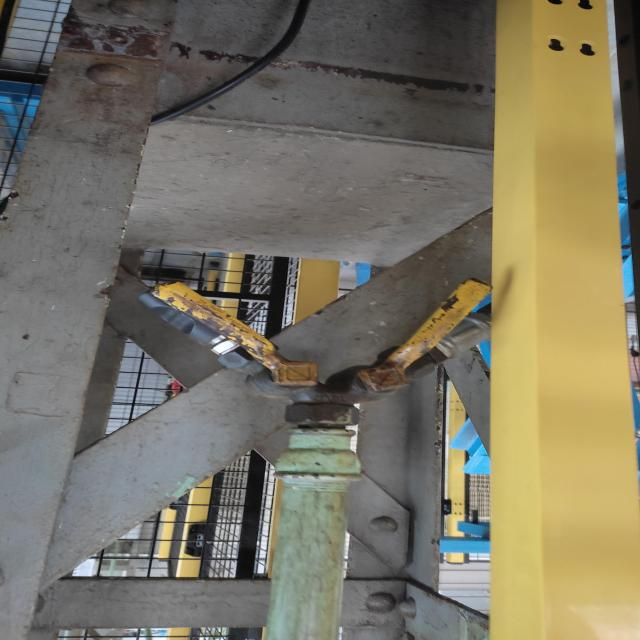opened_valve: (110, 266, 351, 409), (324, 267, 530, 410)
